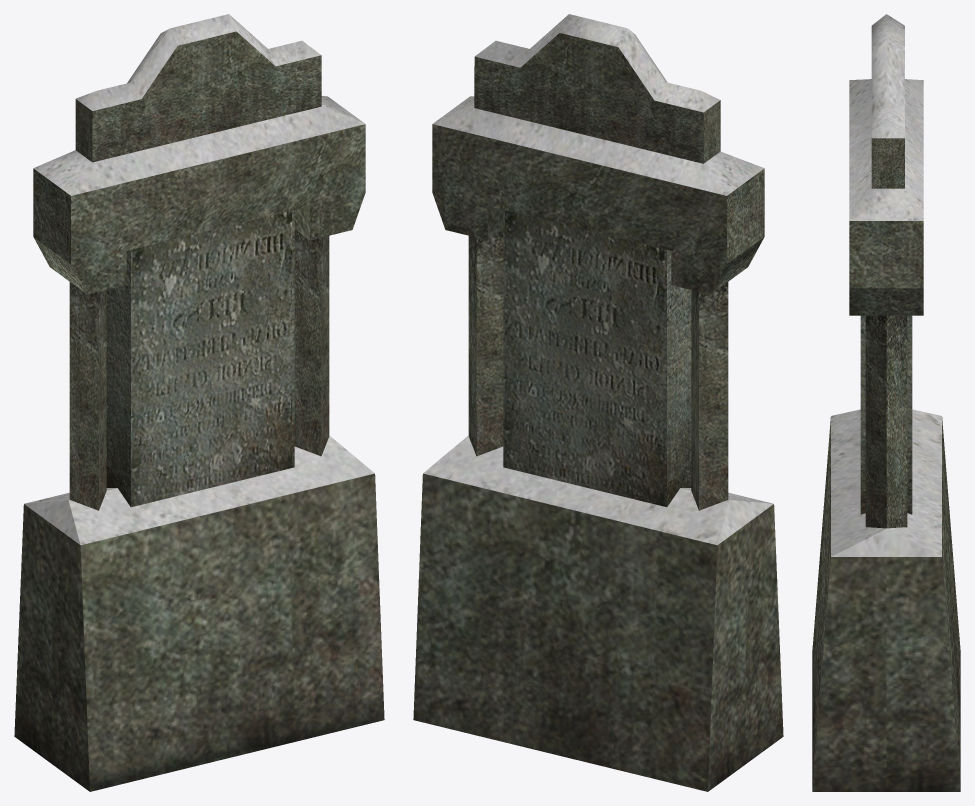
Rendered from tombstone_small_04_snow.fbx.
3 renders of one model, left to right at view 1: azimuth 30°, elevation 25°; view 2: azimuth 150°, elevation 25°; view 3: azimuth 270°, elevation 25°, orthographic.
Parts seen in each view (by area): view 1: mesh_0, mesh_2, mesh_5, mesh_6, mesh_1, mesh_3, mesh_4; view 2: mesh_0, mesh_2, mesh_5, mesh_6, mesh_1, mesh_3, mesh_4; view 3: mesh_0, mesh_6, mesh_1, mesh_4, mesh_5, mesh_2.
Boxes of the visible parts, x1,y1,x2,y2 form: mesh_0: (14, 473, 384, 791); mesh_2: (106, 210, 294, 507); mesh_5: (33, 31, 365, 294); mesh_6: (33, 14, 364, 195); mesh_1: (24, 436, 374, 545); mesh_3: (69, 282, 106, 510); mesh_4: (294, 229, 329, 456); mesh_0: (413, 473, 783, 791); mesh_2: (503, 210, 691, 507); mesh_5: (432, 33, 764, 294); mesh_6: (433, 14, 764, 195); mesh_1: (423, 436, 773, 545); mesh_3: (691, 282, 728, 510); mesh_4: (468, 229, 503, 456); mesh_0: (812, 417, 960, 791); mesh_6: (849, 14, 923, 220); mesh_1: (831, 409, 941, 556); mesh_4: (865, 315, 907, 528); mesh_5: (849, 138, 923, 315); mesh_2: (860, 315, 912, 514).
Size of the model in its own units: 90 by 206 by 40.
3 materials, 3 textured.
